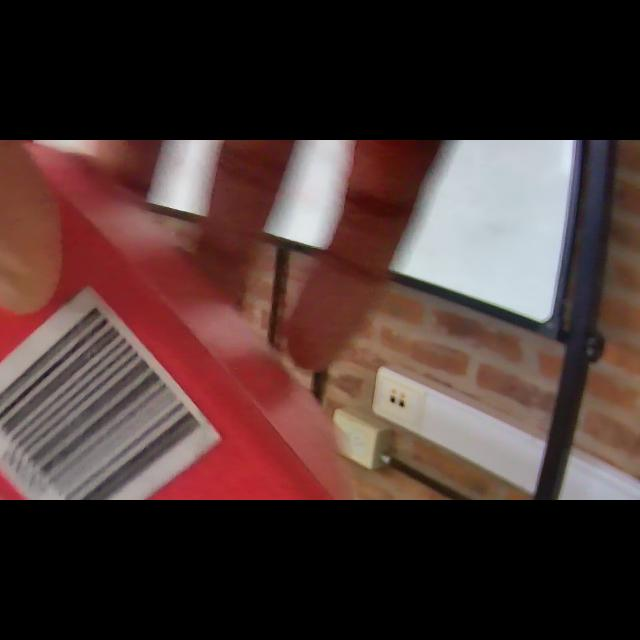greenBox: (0, 492, 188, 500)
redBox: (0, 140, 372, 500)
